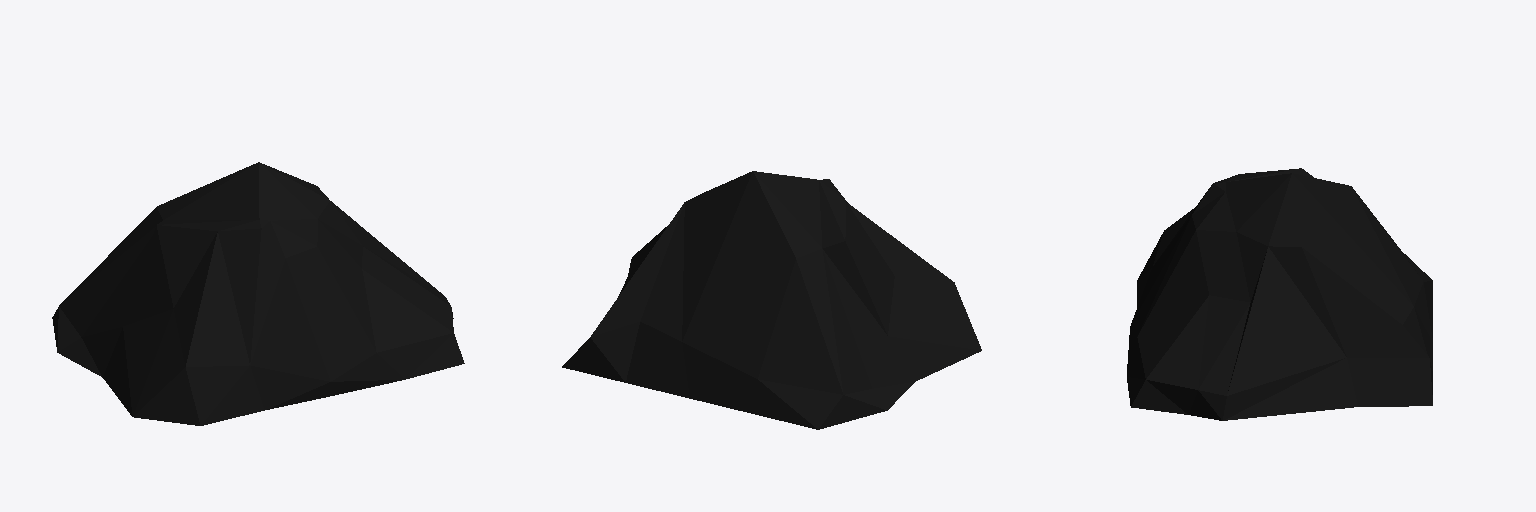
Rendered from Rock_01.obj.
The picture shows the model from 3 angles: view 1: azimuth 30°, elevation 25°; view 2: azimuth 150°, elevation 25°; view 3: azimuth 270°, elevation 25°; orthographic projection.
Parts seen in each view (by area): view 1: Cube; view 2: Cube; view 3: Cube.
Boxes of the visible parts, x1,y1,x2,y2 form: Cube: [52, 162, 464, 425]; Cube: [562, 171, 981, 429]; Cube: [1127, 168, 1432, 420].
Bounding box in the file's own units: 6.36 × 3.14 × 5.